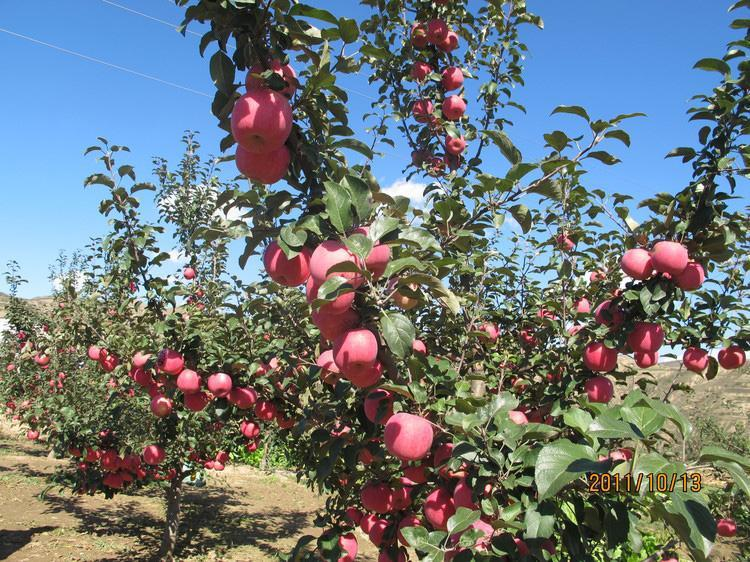apple: (229, 87, 292, 154), (383, 411, 433, 460), (311, 298, 359, 343), (262, 241, 309, 286), (235, 144, 290, 182), (310, 241, 360, 281), (334, 328, 377, 374), (649, 240, 688, 275), (582, 339, 617, 373), (626, 322, 661, 353), (620, 247, 653, 279), (583, 375, 613, 403), (676, 263, 706, 291), (681, 347, 709, 372), (717, 346, 744, 370)
